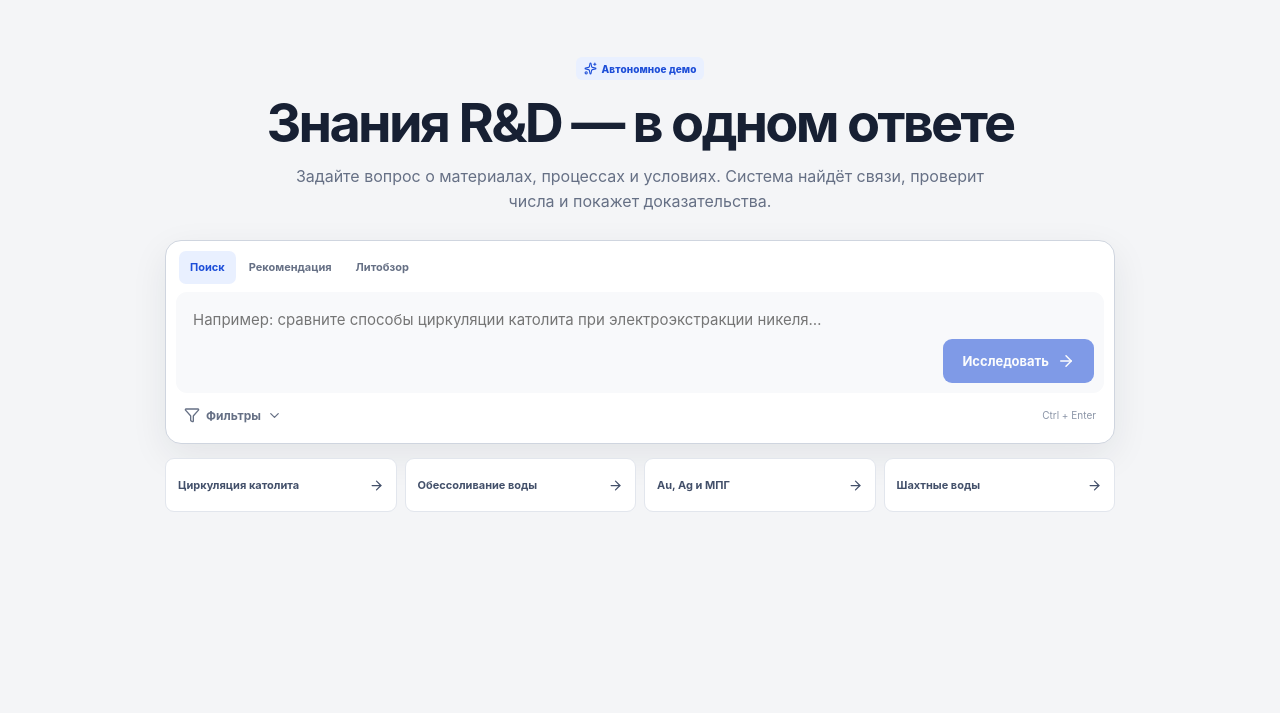
SearchPage › runs the catholyte search and shows numeric facts
What coordinates should you click on to do the following:
click the button "Циркуляция католита"
I would click on:
 (281, 486)
Its box is [165,458,396,512].
(page scrolled)
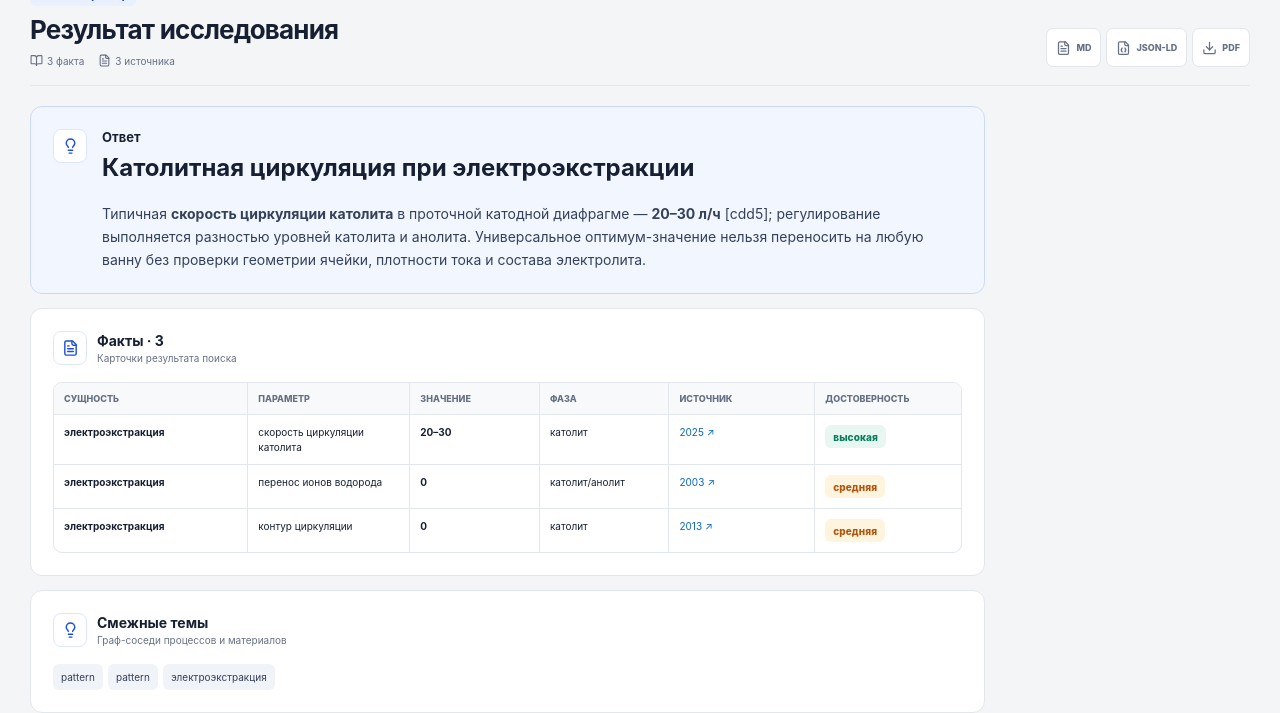
Now the text "20–30 л/ч" is shown, box [651,205,721,222]
Now the text "электроэкстракция" in the row of "2025" is shown, box [64,426,164,438]
